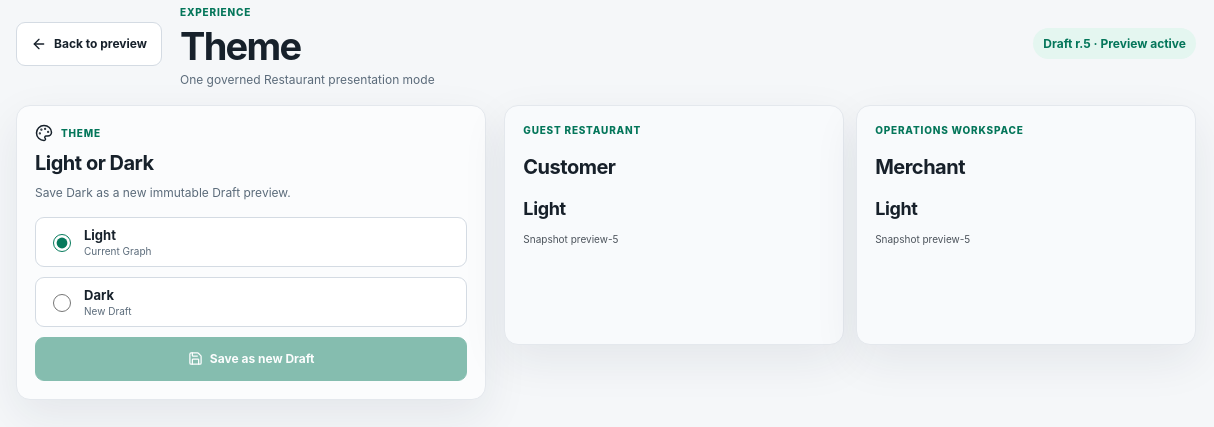
it: TemplateExperienceWorkspace › adopts strict r.6 dark frames together, announces success, and clears the stale latch
Click the radio button with aria-label "Dark" at {"x": 62, "y": 303}, box [53,294,71,312]
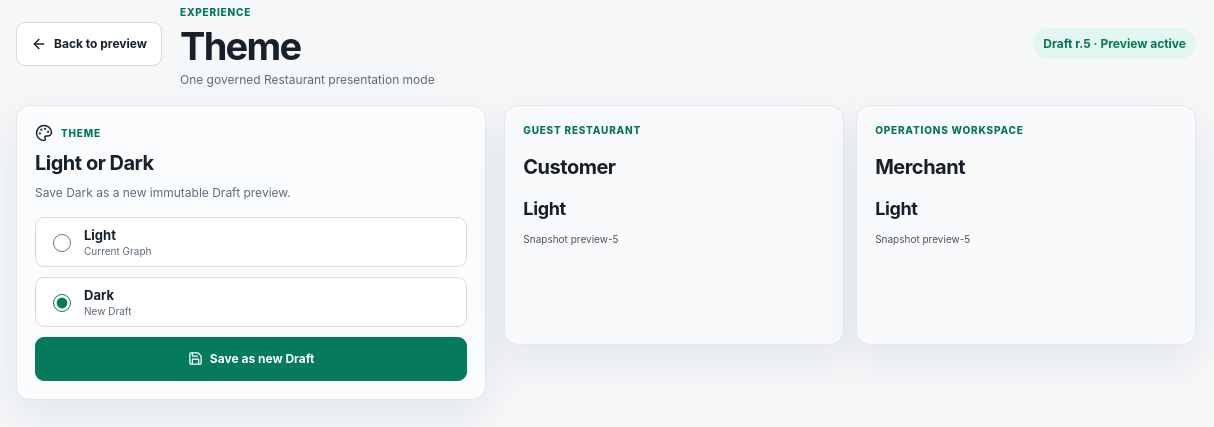
Submit the form, box [35,217,467,381]
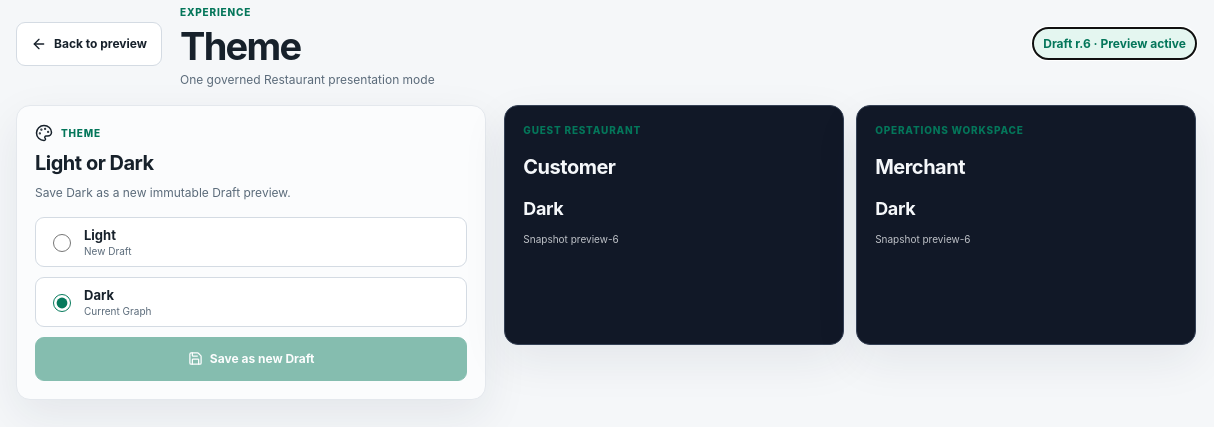
Check: the radio button with aria-label "Dark" is checked, box [53,294,71,312]
Check: the button with aria-label "Save dark theme as new Draft" is disabled, box [35,337,467,381]
Check: the text "Draft r.6 · Preview active" is shown, box [1033,28,1196,59]
